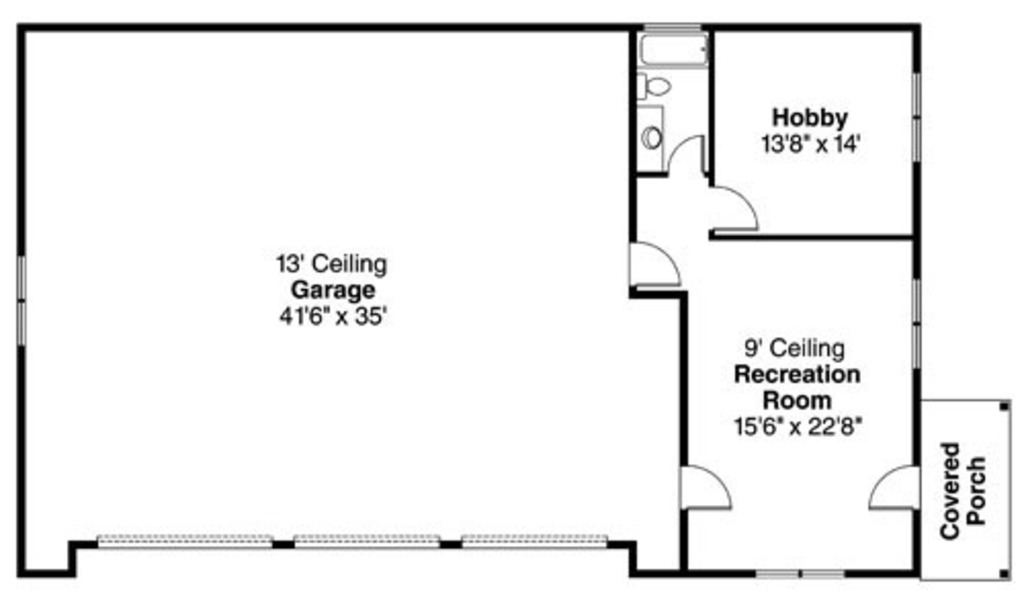door: (620, 232, 693, 302), (678, 462, 732, 516), (710, 181, 764, 234), (869, 466, 924, 509), (666, 135, 713, 178)
large_sink: (634, 69, 681, 108)
small_sink: (635, 110, 664, 174)
tub: (638, 30, 712, 67)
window: (757, 566, 848, 584), (12, 250, 28, 343), (909, 279, 924, 366), (911, 73, 925, 160)
